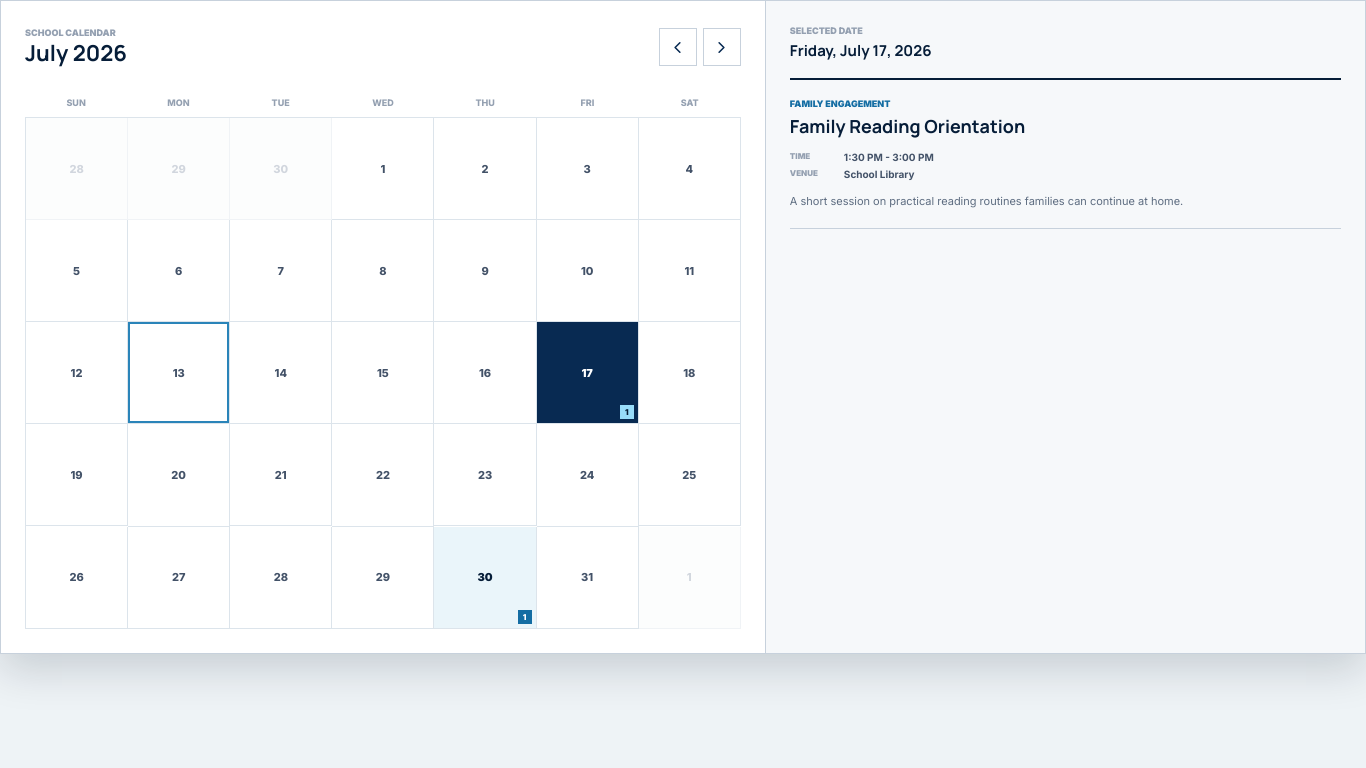
Test: public school website › shows event details when calendar dates and months are selected
expect the heading "Family Reading Orientation" is shown: met, box [790, 114, 1025, 138]
What coordinates should you click on to do the following:
click the button named "July 30, 2026, 1 event"
I would click on:
 (486, 578)
Its box is [434, 526, 537, 629].
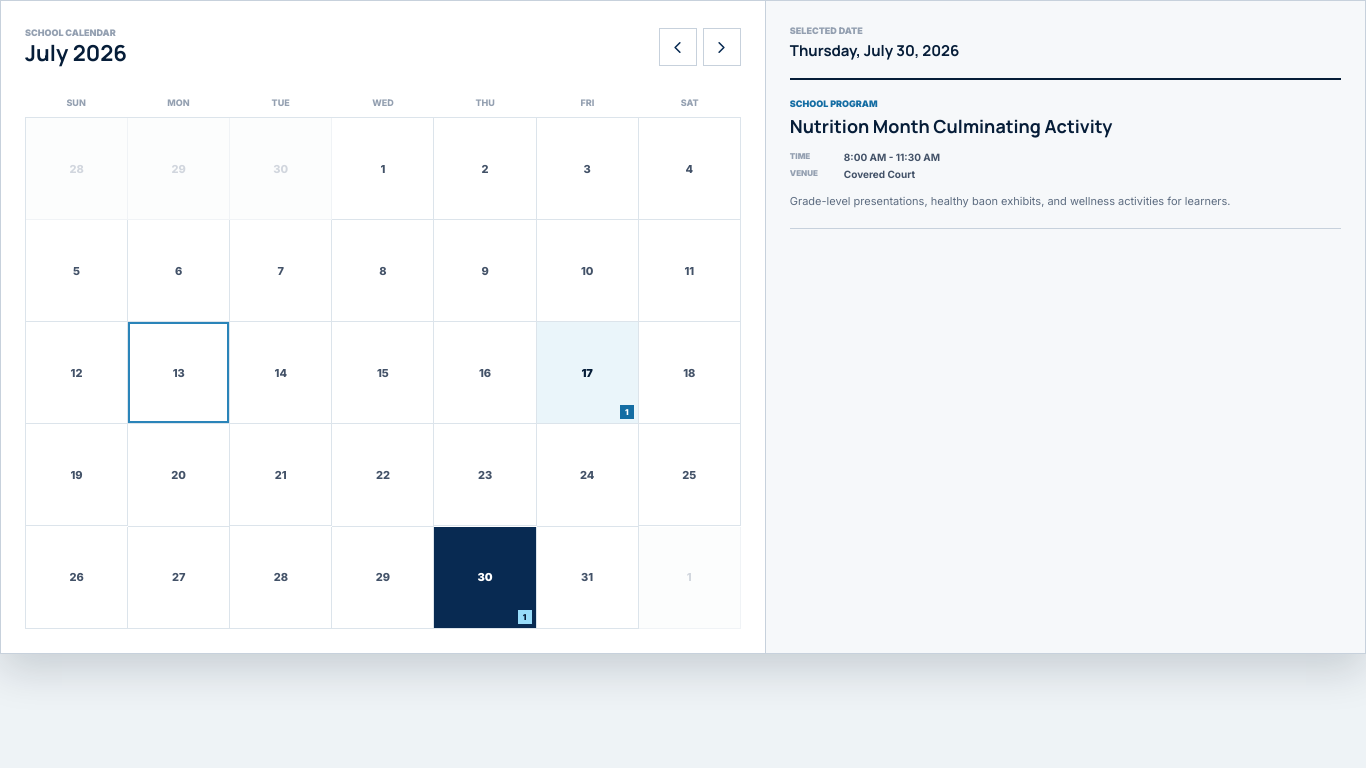
expect the heading "Nutrition Month Culminating Activity" is shown: met, box [790, 114, 1112, 138]
What coordinates should you click on to do the following:
click the button named "Next month"
I would click on:
 (722, 47)
Its box is [703, 28, 741, 66].
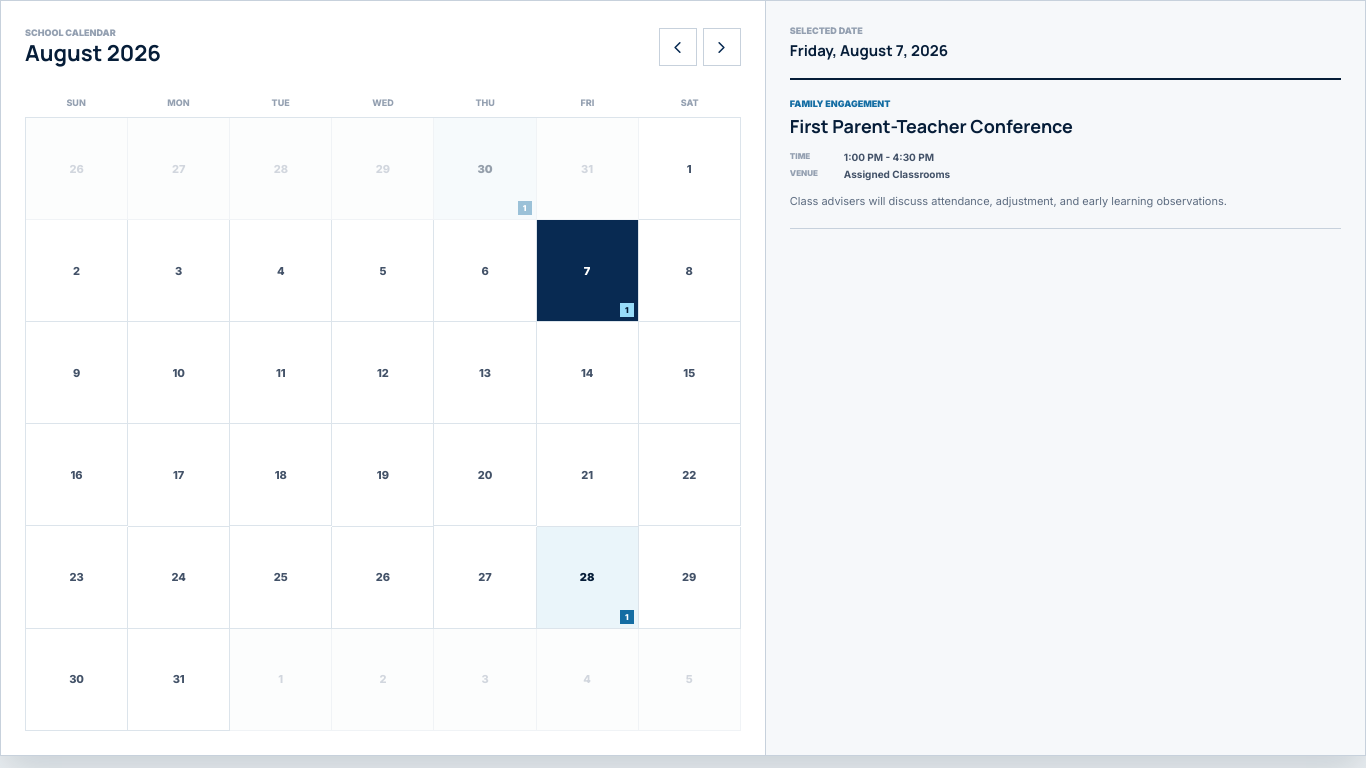
expect the heading "First Parent-Teacher Conference" is shown: met, box [790, 114, 1073, 138]
